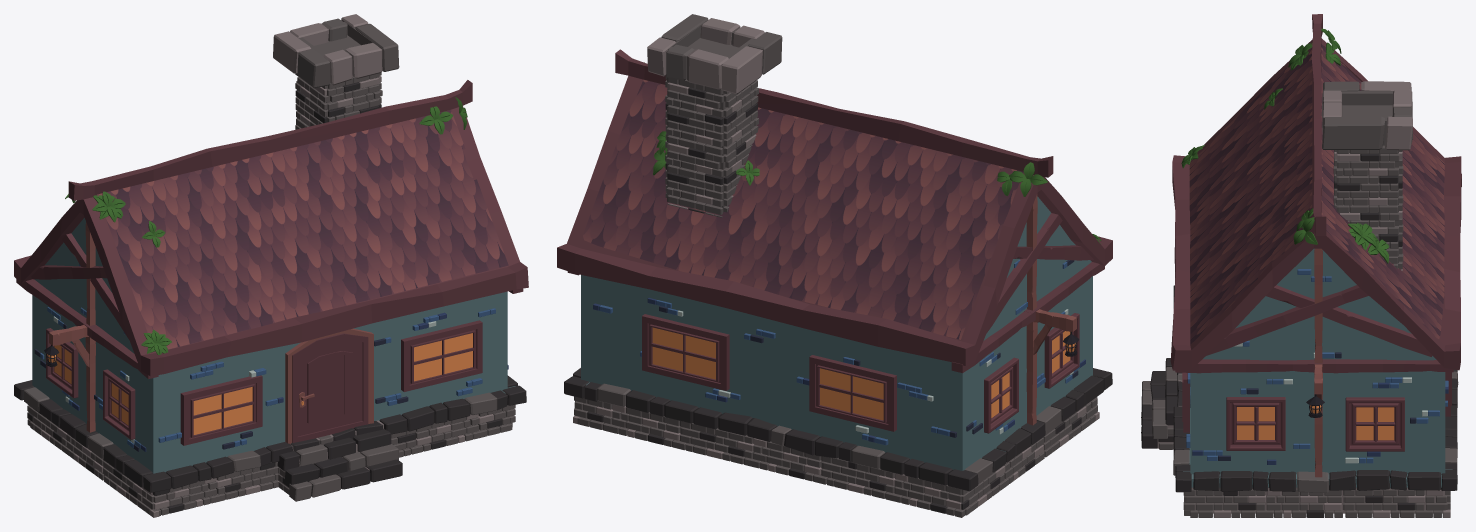
The model's file is casa-pedra11.fbx.
3 renders of one model, left to right at view 1: azimuth 30°, elevation 25°; view 2: azimuth 150°, elevation 25°; view 3: azimuth 270°, elevation 25°, orthographic. The views are drawn at different scales.
Parts seen in each view (by area): view 1: CasaPedra11_LOD0, PortaCasaPedra11; view 2: CasaPedra11_LOD0; view 3: CasaPedra11_LOD0.
Boxes of the visible parts, box(x1,y1,x2,y2) form: CasaPedra11_LOD0: box(14, 14, 528, 517); PortaCasaPedra11: box(292, 333, 368, 442); CasaPedra11_LOD0: box(557, 14, 1112, 517); CasaPedra11_LOD0: box(1141, 14, 1461, 517).
Size of what is drawn, in the model's own units: 7.36 by 5.45 by 4.31.
